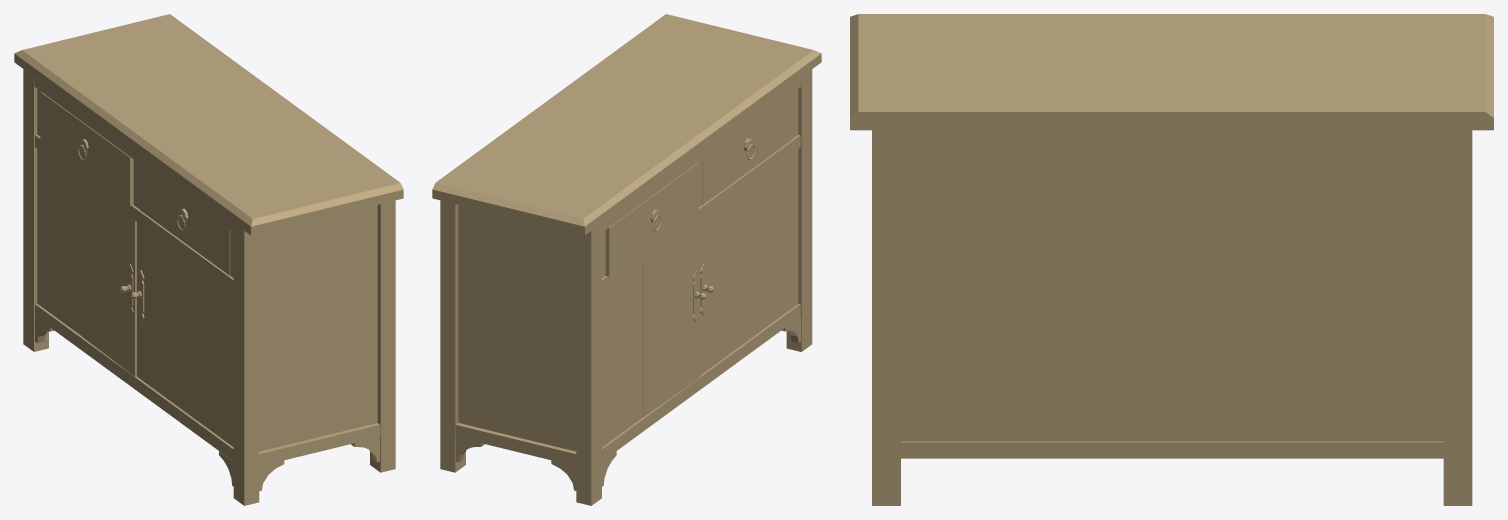
The model's file is CabinetDisplay_A_Snaps004.FBX.
3 views of the same model, side by side, from view 1: azimuth 30°, elevation 25°; view 2: azimuth 150°, elevation 25°; view 3: azimuth 270°, elevation 25° (orthographic). The views are drawn at different scales.
Parts seen in each view (by area): view 1: Geometry_CabinetDisplay_A_LOD00; view 2: Geometry_CabinetDisplay_A_LOD00; view 3: Geometry_CabinetDisplay_A_LOD00.
Part boxes in pixels (x1=…): Geometry_CabinetDisplay_A_LOD00: x1=14, y1=14, x2=403, y2=505; Geometry_CabinetDisplay_A_LOD00: x1=432, y1=14, x2=821, y2=505; Geometry_CabinetDisplay_A_LOD00: x1=850, y1=14, x2=1493, y2=505.
Size of what is drawn, in the model's own units: 63.79 by 109 by 162.
